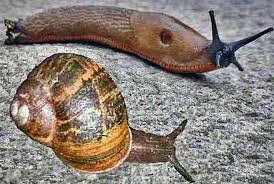slug: (1, 5, 263, 75)
snail: (12, 51, 192, 181)
